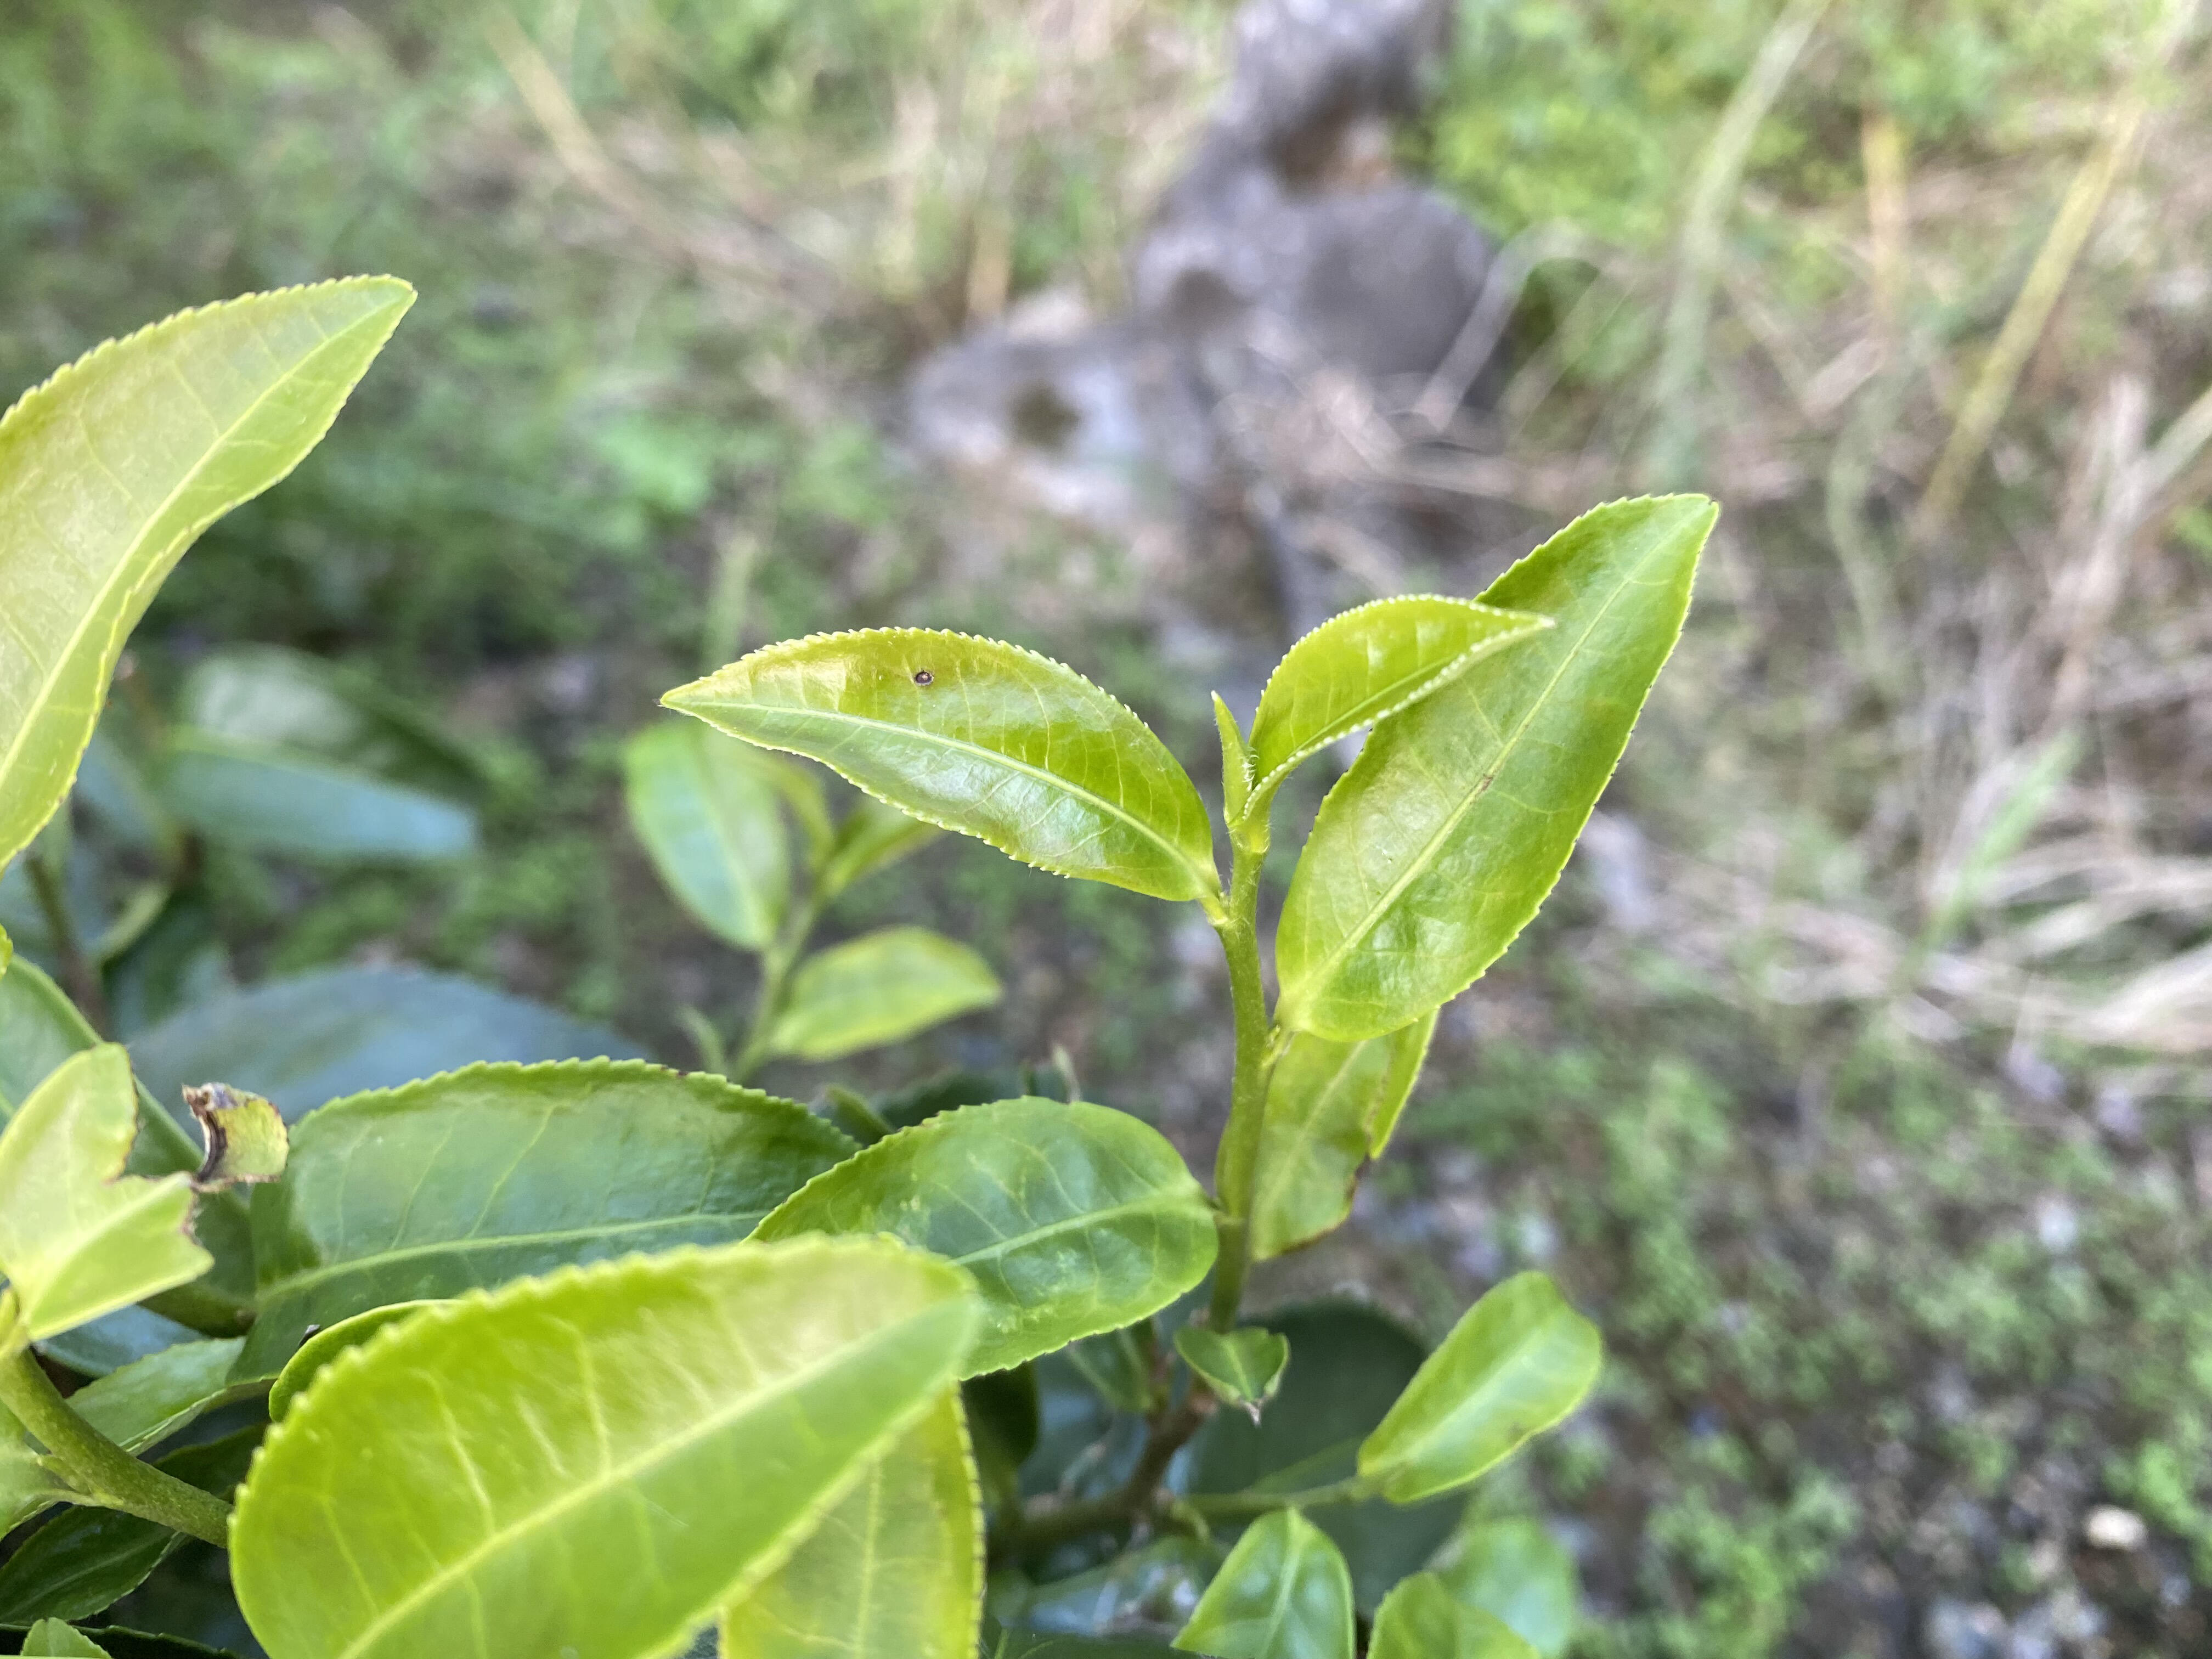chihuo_high: (0, 1042, 293, 1349)
healthy: (219, 1229, 981, 1657), (2, 270, 423, 871), (1271, 486, 1723, 1039), (1245, 592, 1555, 816)
tanju_low: (651, 624, 1219, 904)
